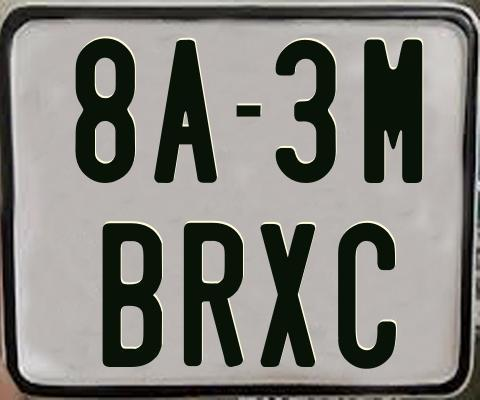3: (275, 40, 337, 186)
8: (73, 37, 138, 187)
A: (153, 37, 222, 181)
B: (102, 221, 164, 365)
C: (338, 222, 402, 374)
M: (362, 37, 420, 183)
R: (182, 220, 245, 364)
X: (259, 224, 315, 373)
